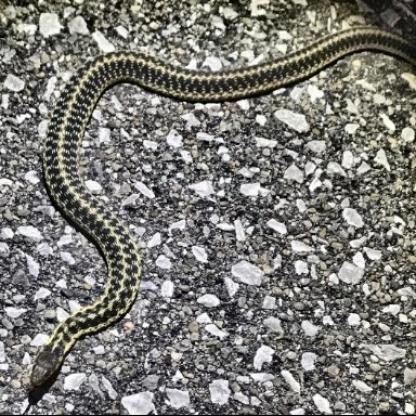Snake: (6, 29, 416, 409)
